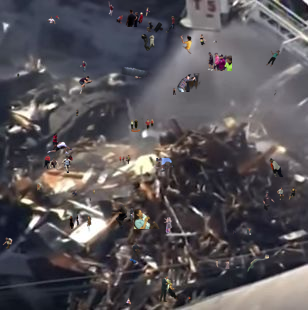Human: (47, 133, 73, 154), (159, 275, 179, 302), (177, 73, 205, 92), (247, 249, 269, 273), (44, 155, 73, 173), (108, 204, 128, 230), (134, 209, 160, 229), (67, 75, 93, 95), (179, 35, 206, 54), (146, 16, 176, 33), (115, 9, 143, 27), (117, 67, 152, 81), (65, 215, 92, 233), (207, 52, 232, 71), (262, 189, 276, 217), (127, 118, 154, 132), (150, 217, 172, 233), (141, 34, 158, 52), (154, 158, 175, 172), (269, 158, 284, 177), (277, 186, 297, 200), (129, 243, 142, 264), (266, 50, 280, 67), (214, 259, 230, 269), (2, 237, 13, 249), (47, 15, 60, 24), (119, 155, 131, 164), (80, 60, 87, 74), (108, 1, 114, 16), (122, 298, 131, 307), (129, 208, 134, 224), (200, 34, 207, 45), (72, 190, 79, 198), (145, 7, 150, 18), (183, 296, 191, 302), (208, 40, 217, 45), (247, 227, 252, 235), (36, 184, 41, 192), (224, 229, 231, 234), (76, 108, 79, 117), (173, 88, 176, 95), (88, 195, 91, 201), (274, 90, 277, 96), (92, 189, 95, 195), (17, 73, 20, 79), (233, 230, 236, 236)
